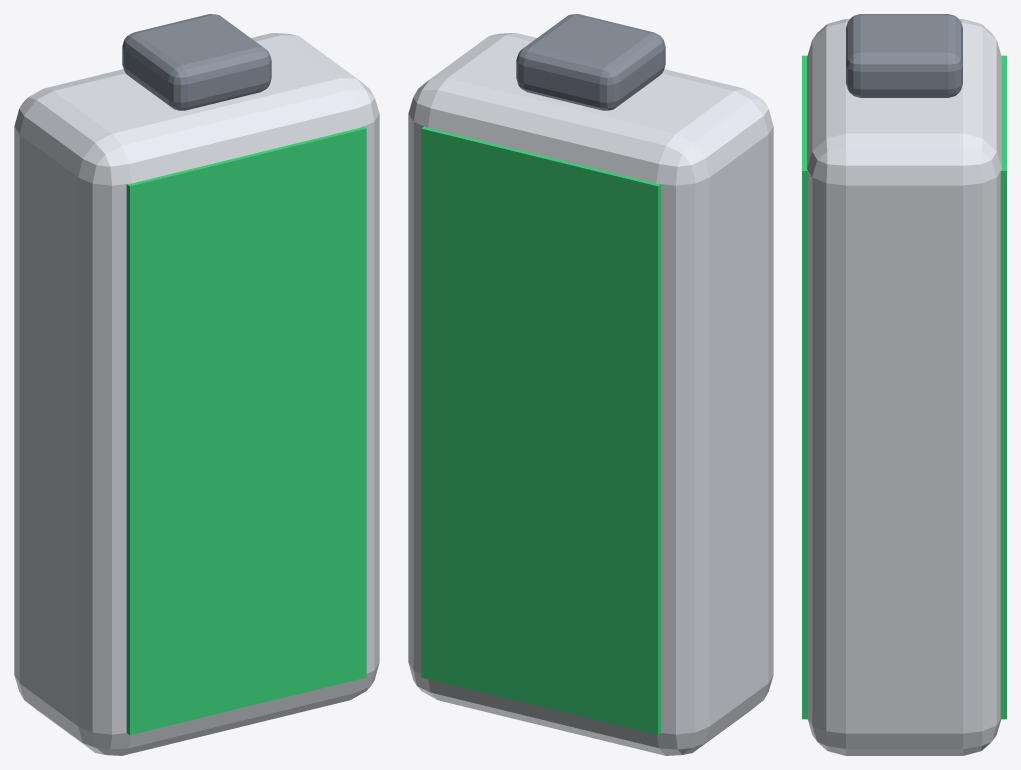
The model's file is bateria_carga.glb.
3 renders of one model, left to right at view 1: azimuth 30°, elevation 25°; view 2: azimuth 150°, elevation 25°; view 3: azimuth 270°, elevation 25°, orthographic.
Visible parts, largest first — view 1: carga, Cube, Cube.001; view 2: carga, Cube, Cube.001; view 3: Cube, Cube.001, carga.
Part boxes in pixels (x1=…): carga: x1=126, y1=126, x2=366, y2=734; Cube: x1=14, y1=33, x2=379, y2=755; Cube.001: x1=122, y1=14, x2=271, y2=110; carga: x1=421, y1=126, x2=661, y2=734; Cube: x1=408, y1=33, x2=773, y2=755; Cube.001: x1=516, y1=14, x2=665, y2=110; Cube: x1=807, y1=19, x2=1001, y2=755; Cube.001: x1=846, y1=14, x2=962, y2=97; carga: x1=802, y1=55, x2=1006, y2=719.
Size of the model in its own units: 0.7 by 1.5 by 0.42.
